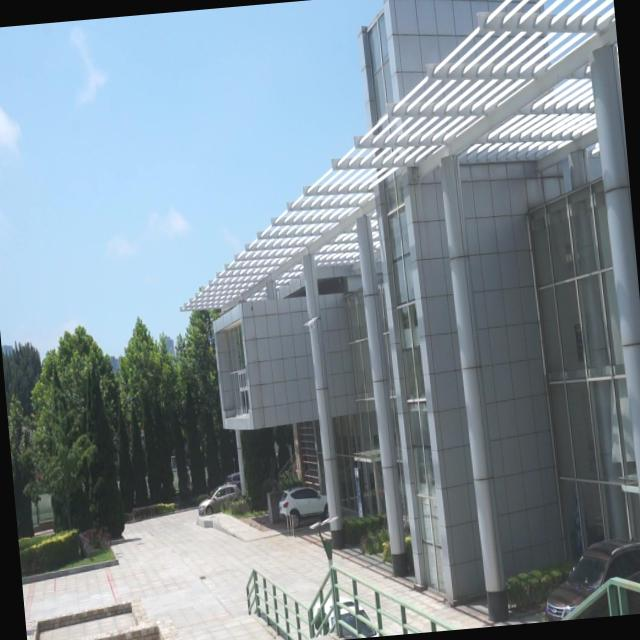drone: (300, 310, 323, 334)
